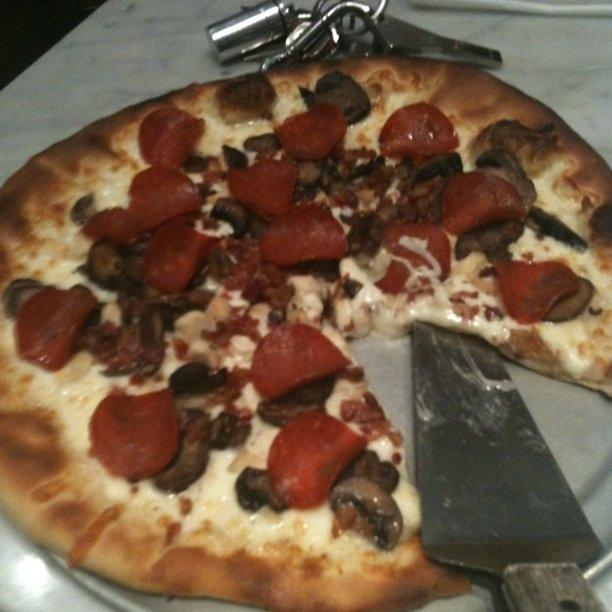mushroom: (330, 474, 404, 552), (152, 408, 212, 494), (299, 70, 371, 126), (258, 376, 336, 426), (136, 290, 216, 333), (475, 150, 536, 205), (454, 220, 525, 264), (524, 206, 590, 253), (334, 449, 398, 495), (234, 465, 294, 514), (541, 274, 594, 324), (408, 152, 463, 190), (408, 174, 448, 225), (169, 362, 228, 396), (88, 239, 126, 289), (372, 205, 416, 246), (2, 278, 41, 320), (210, 197, 249, 239), (210, 412, 252, 451), (340, 392, 386, 423), (118, 322, 146, 368), (70, 192, 100, 226), (286, 260, 339, 278), (243, 133, 282, 153), (223, 145, 248, 168), (180, 156, 209, 173), (344, 280, 365, 300)
